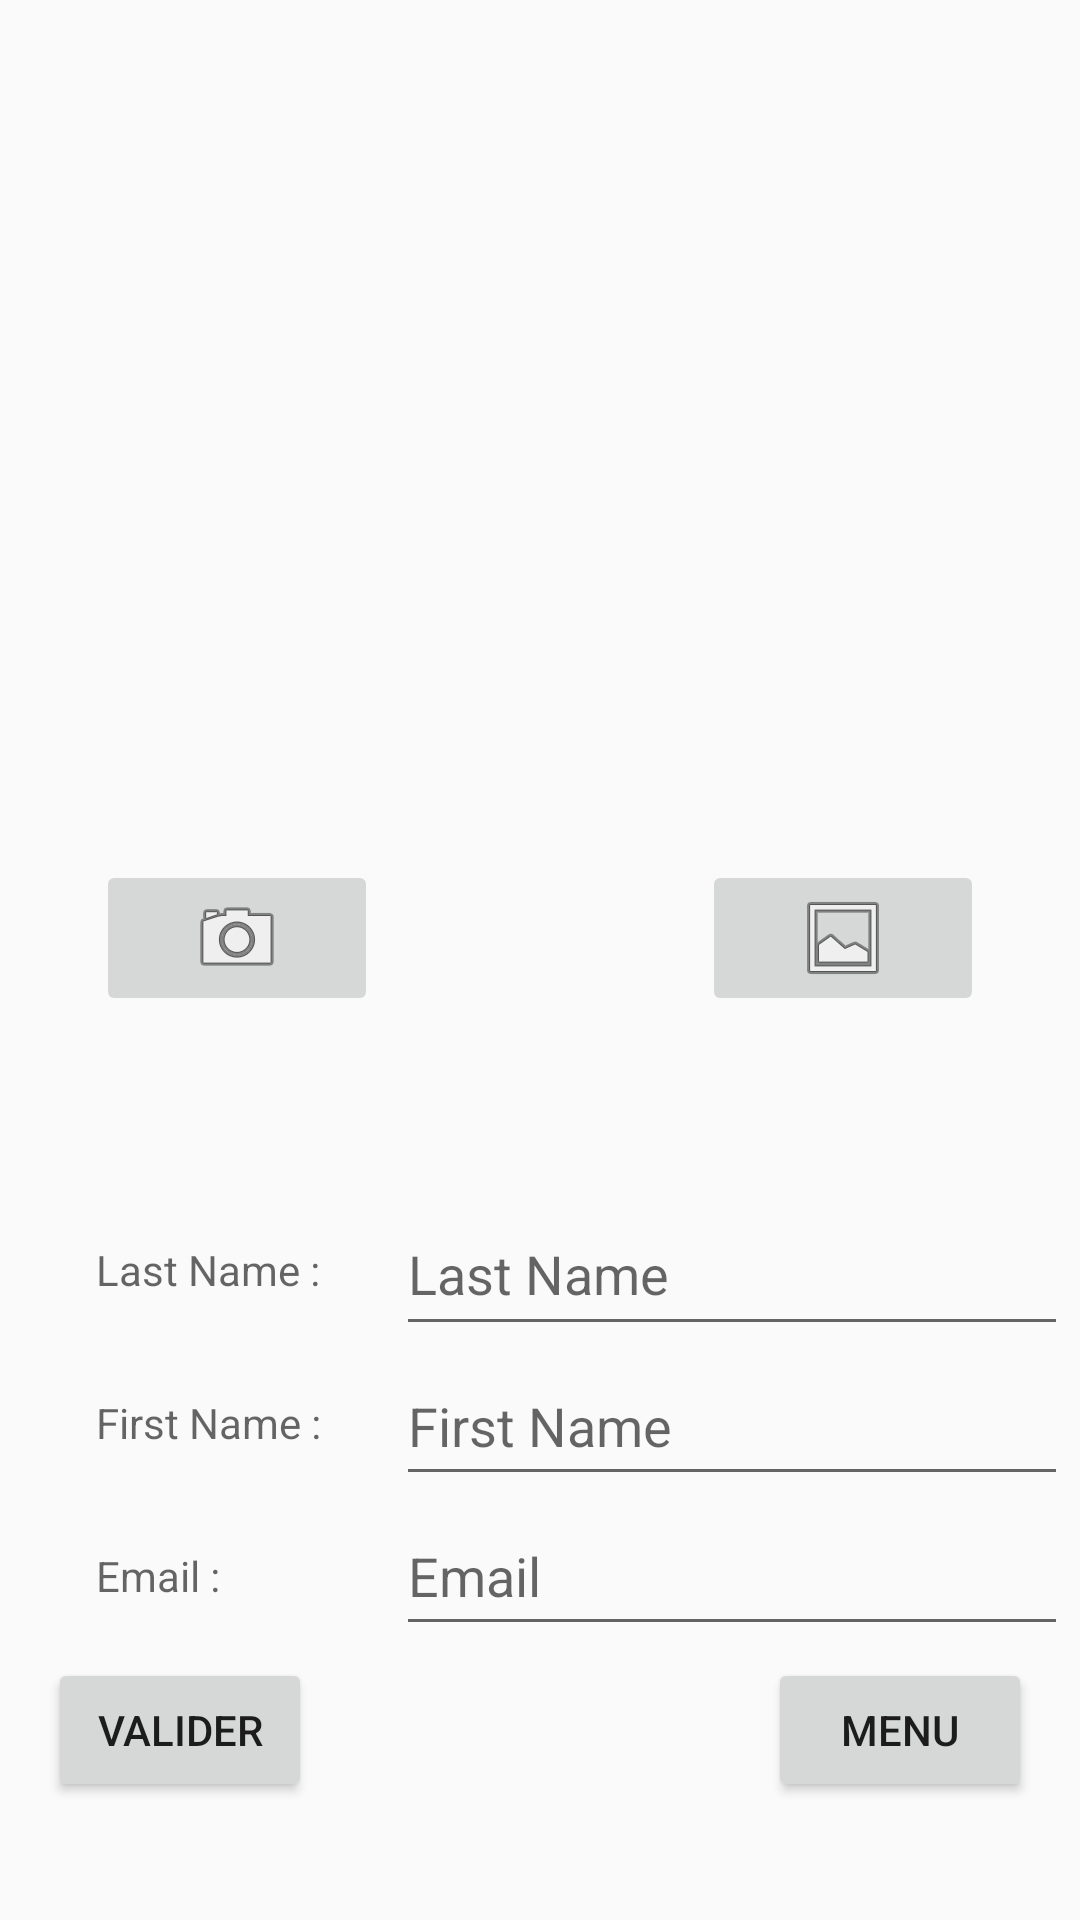

Icons on this 1080×1920 Android screen, each with the point to tap as point (x, y):
camera: point (237, 938)
gallery: point (843, 938)
